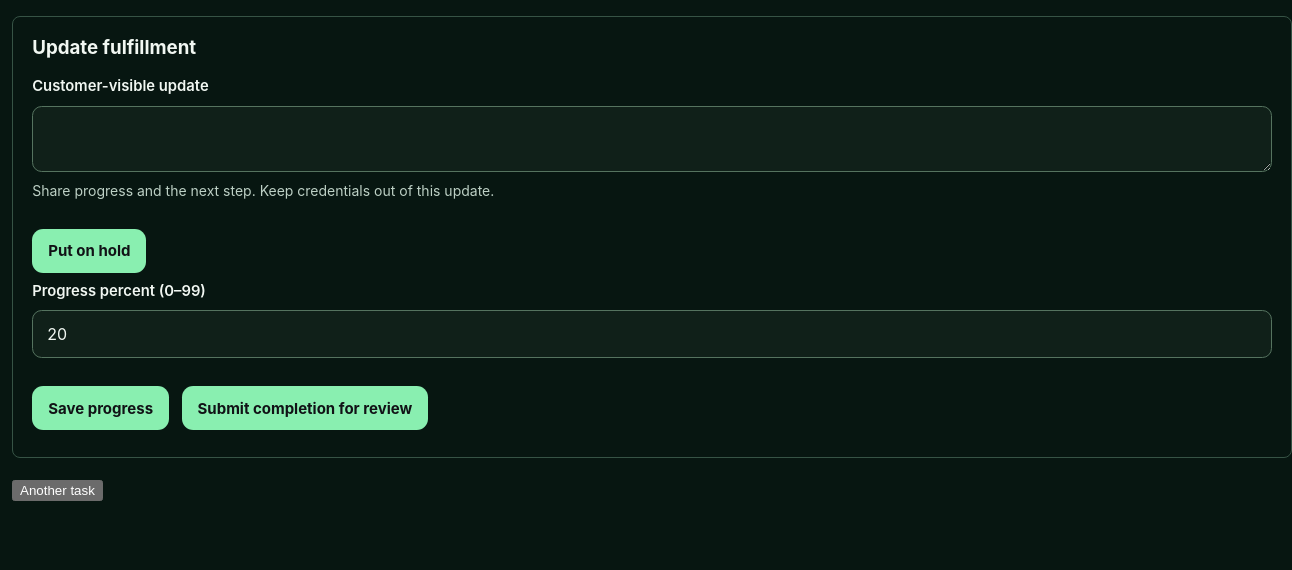
Scenario: announces success without stealing focus from another task
This screenshot has width=1292, height=570.
Type "Reached the next milestone" into the text box labelled "Customer-visible update" at x=652, y=139, box left=32, top=106, right=1272, bottom=172
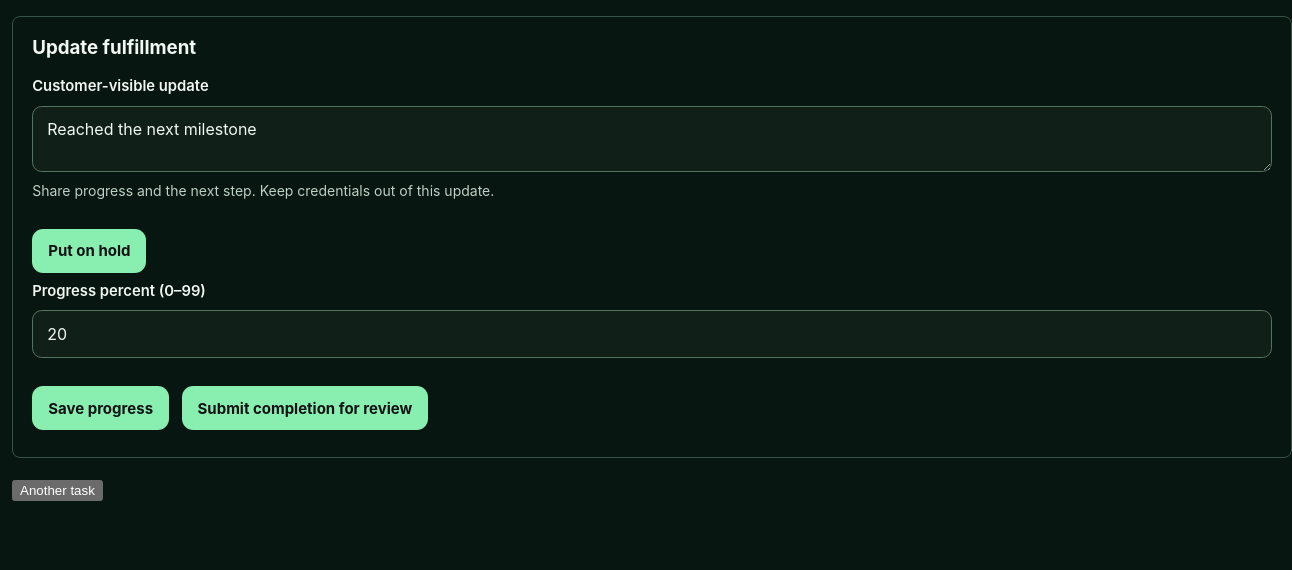
Replace the text in the field labelled "Progress percent (0–99)" with "42" at x=652, y=334, box left=32, top=310, right=1272, bottom=358
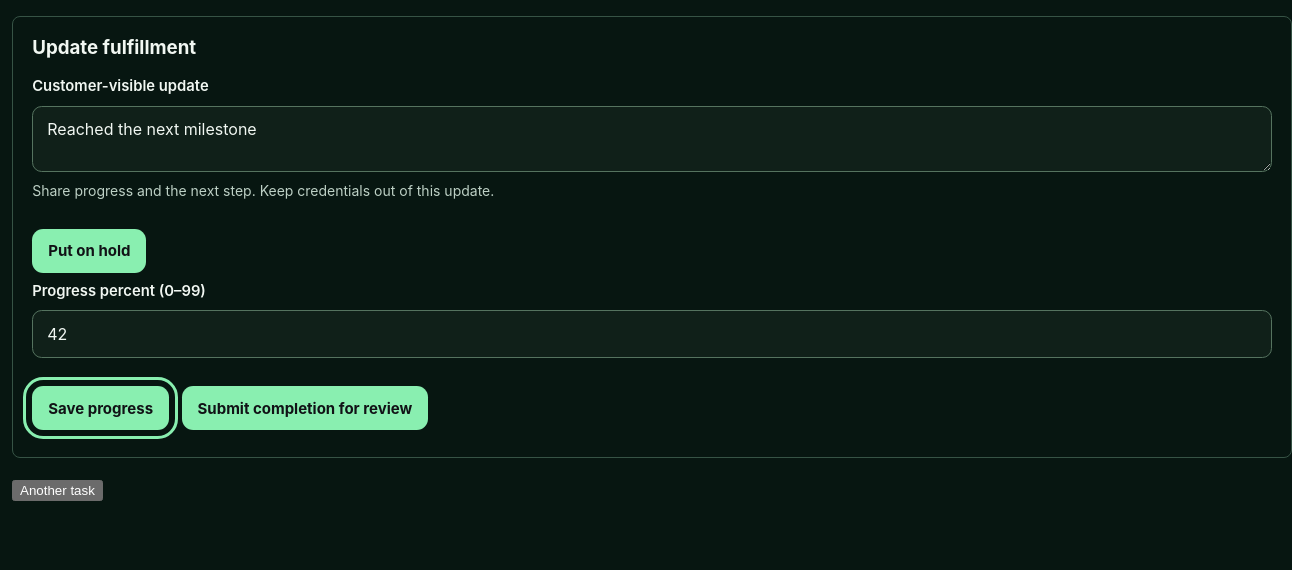
Click the button "Save progress" at x=101, y=408, box left=32, top=386, right=169, bottom=430
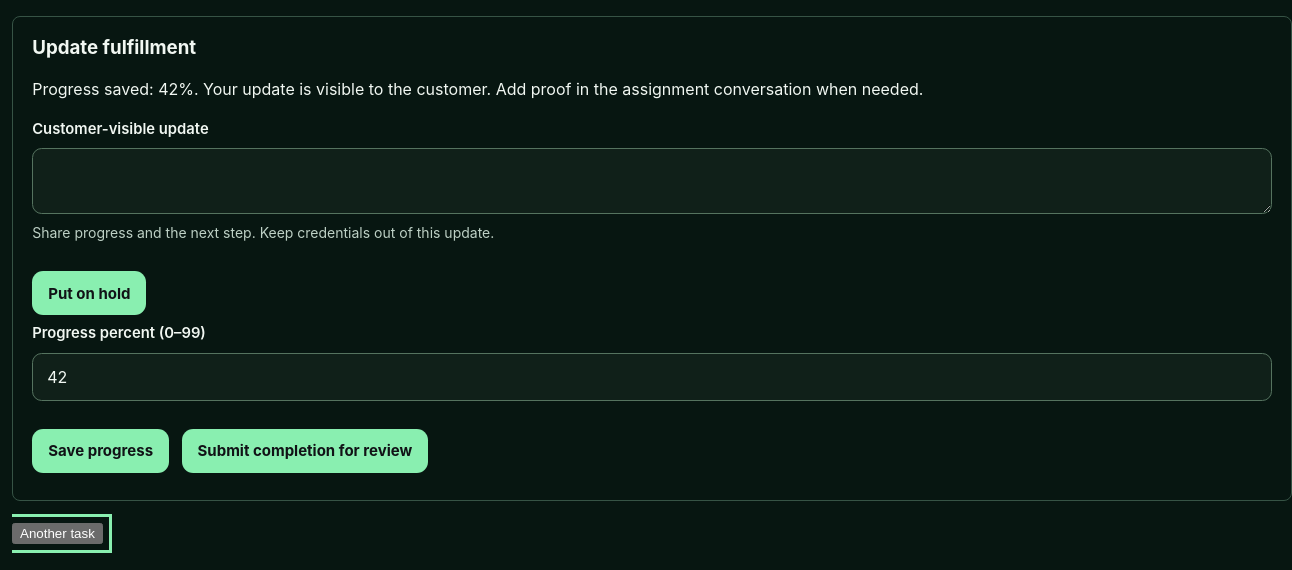
Expected: the message shows "Progress saved: 42%", left=32, top=79, right=923, bottom=99
